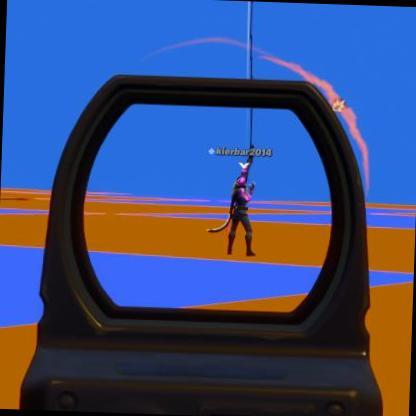person: (222, 154, 260, 258)
